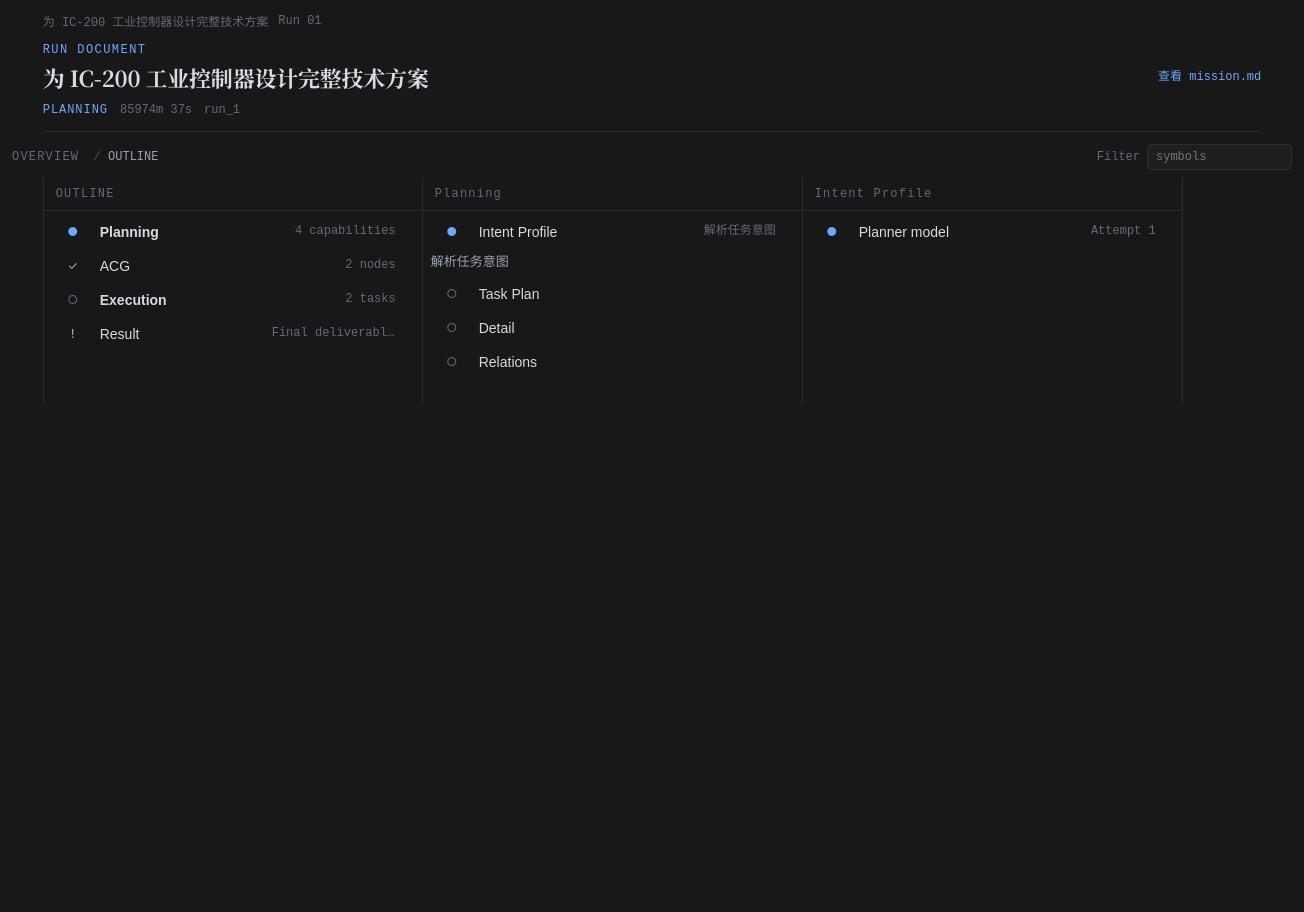
Test: RunProgressEditor › renders Intent Profile as a structured planning artifact
Click the button with class "run-symbol__main" showing "Planning 4 capabilities" at point(129, 232), box [94,217,402,247]
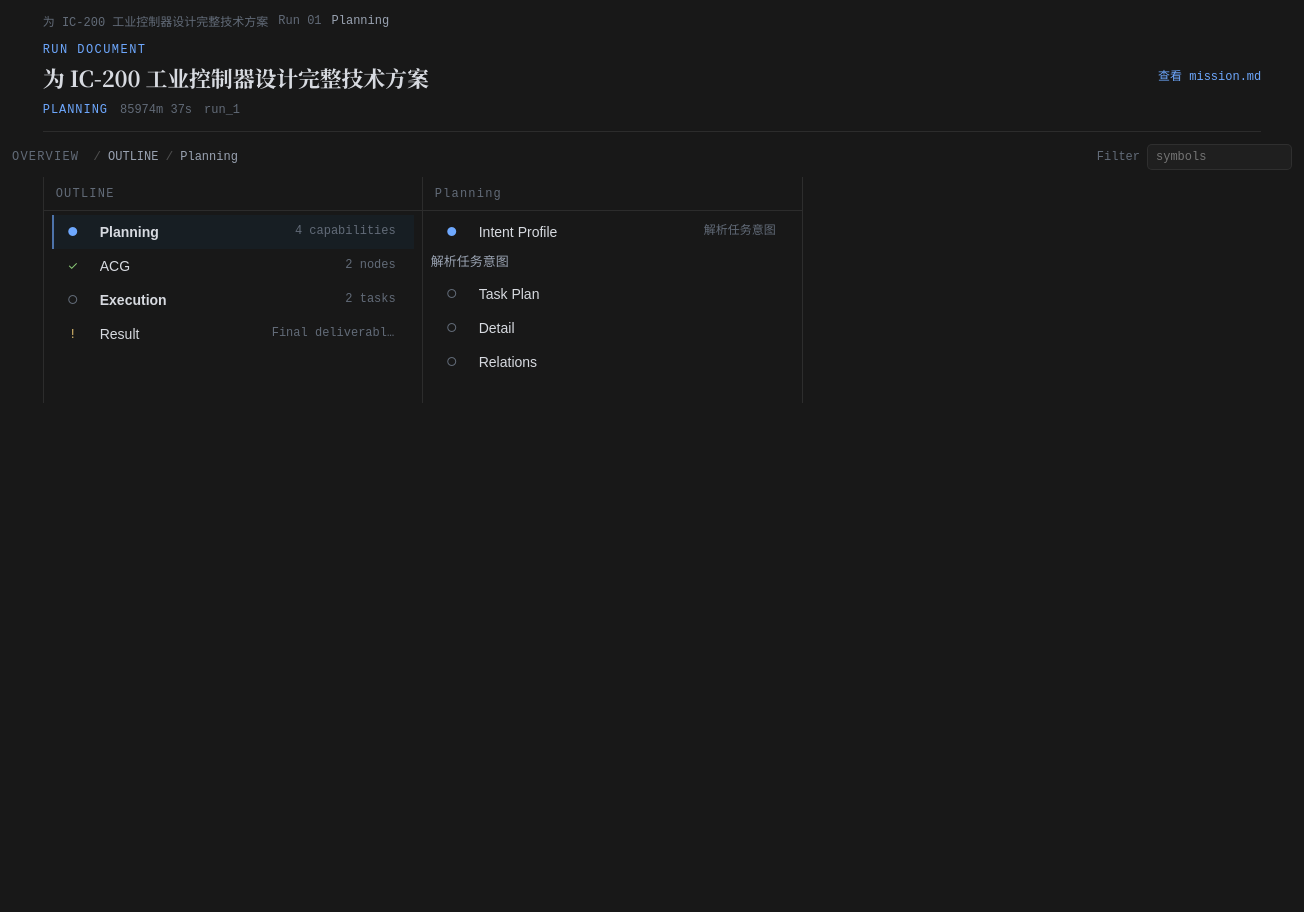
Click the button with class "run-symbol__main" showing "Intent Profile 解析任务意图" at point(518, 232), box [473,217,782,247]
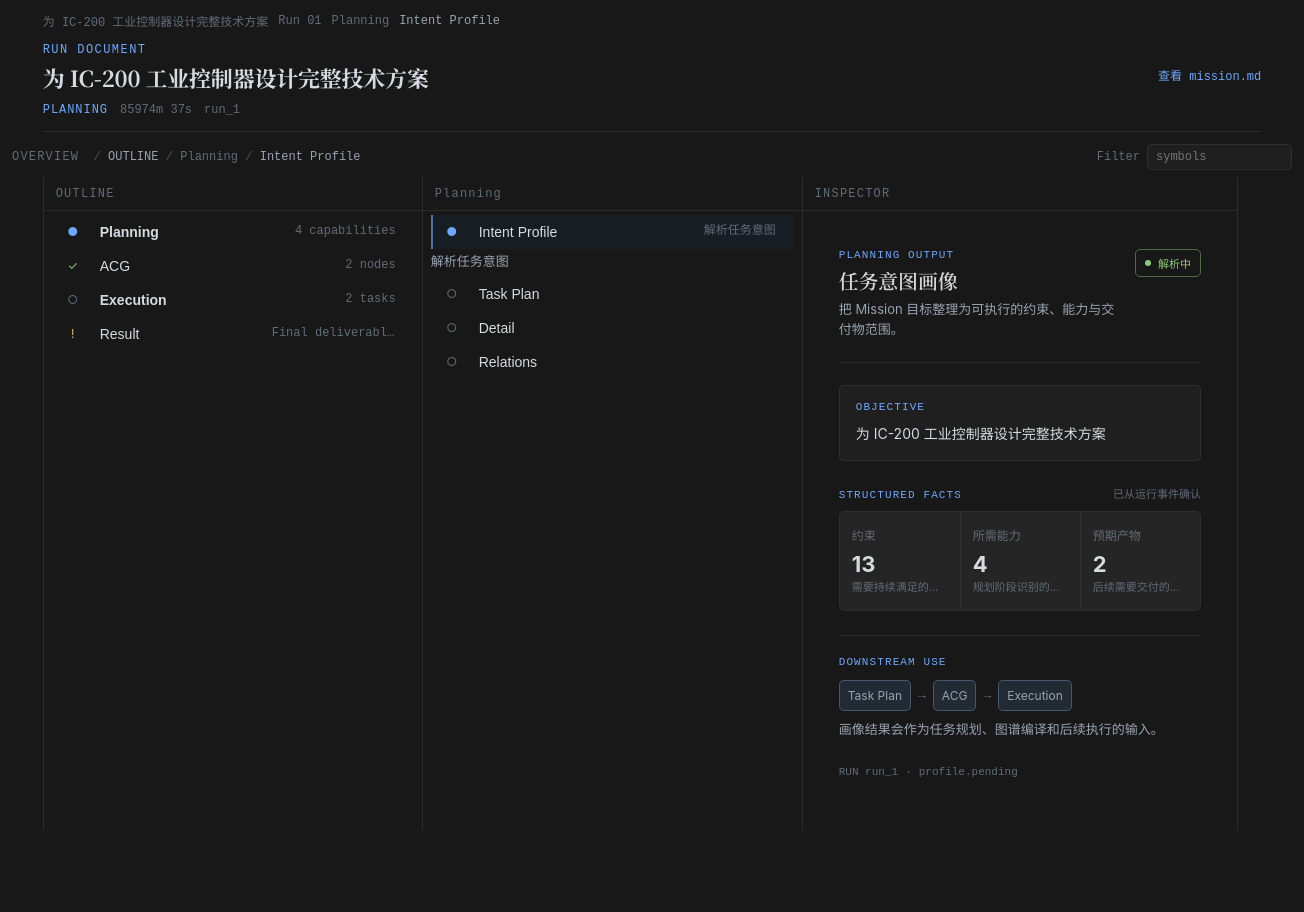
Now the element with test id "intent-profile-artifact" shows "任务意图画像", box [839,266,958,295]
Now the element with test id "intent-profile-artifact" shows "13", box [852,551,875,577]
Now the element with test id "intent-profile-artifact" shows "4", box [973,551,988,577]
